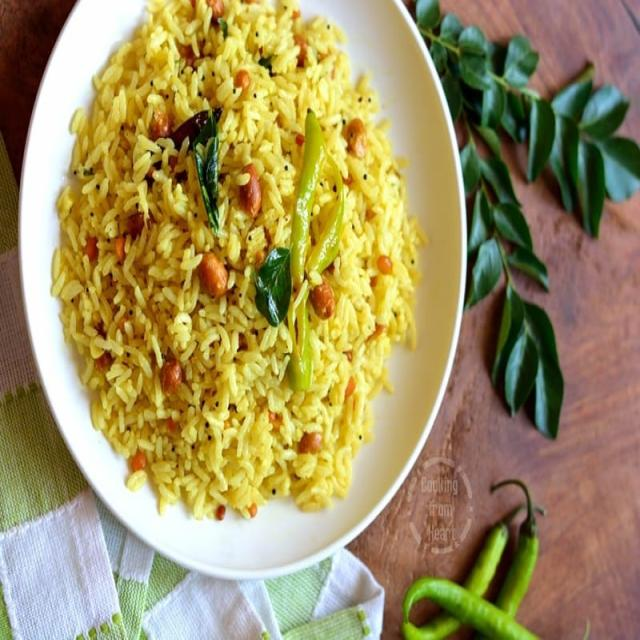puliyogare: (44, 0, 439, 548)
